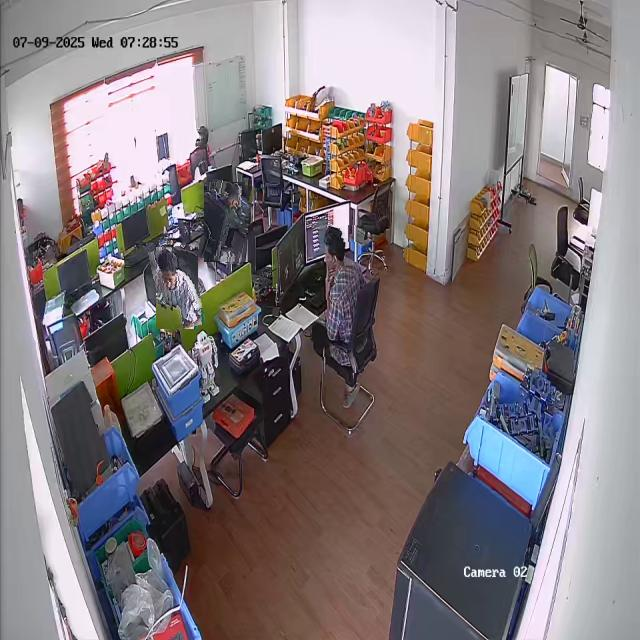person: (313, 225, 364, 373), (200, 181, 252, 264), (152, 246, 202, 330)
